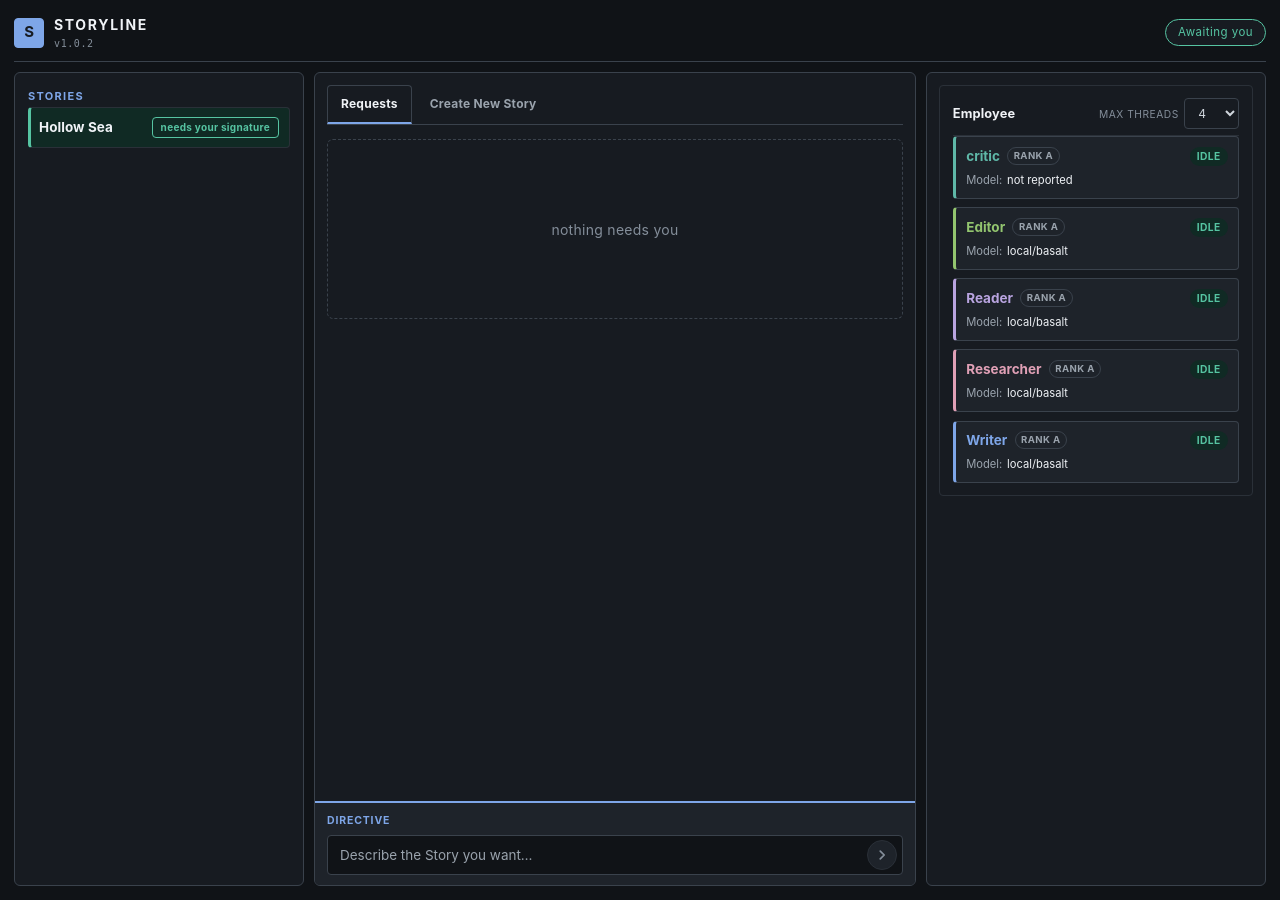
Test: StorylineApp — the four regions (§10.1) › switches to the Create New Story tab for the form and labels the prompt (U-12)
This screenshot has width=1280, height=900.
Click the tab "Create New Story" at (483, 104), box [416, 85, 550, 124]
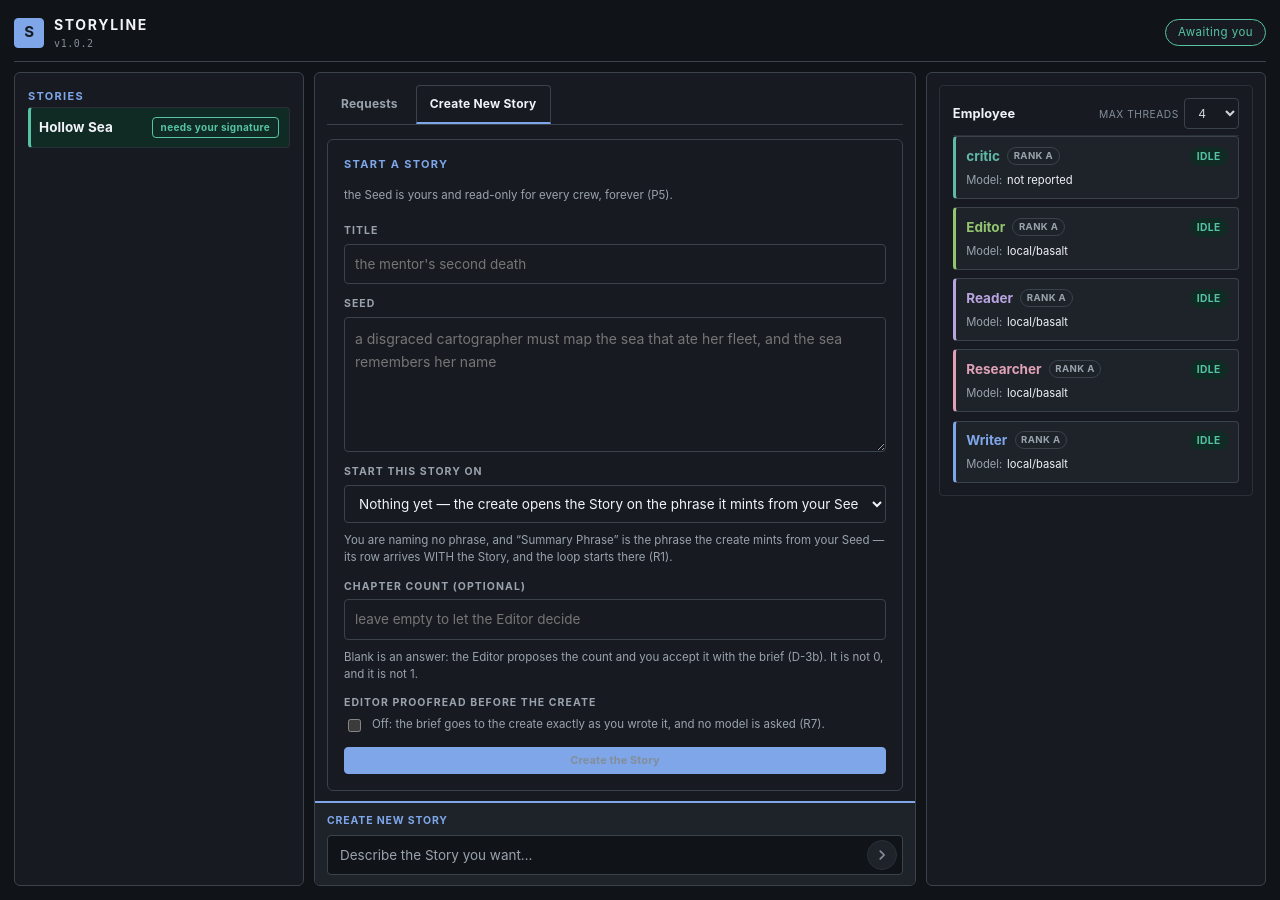
Expected: the form with test id "new-story-form" is shown, [327, 139, 903, 791]
Expected: the heading "Start a Story" is shown, [344, 157, 448, 171]
Expected: the element with test id "author-queue" is gone
